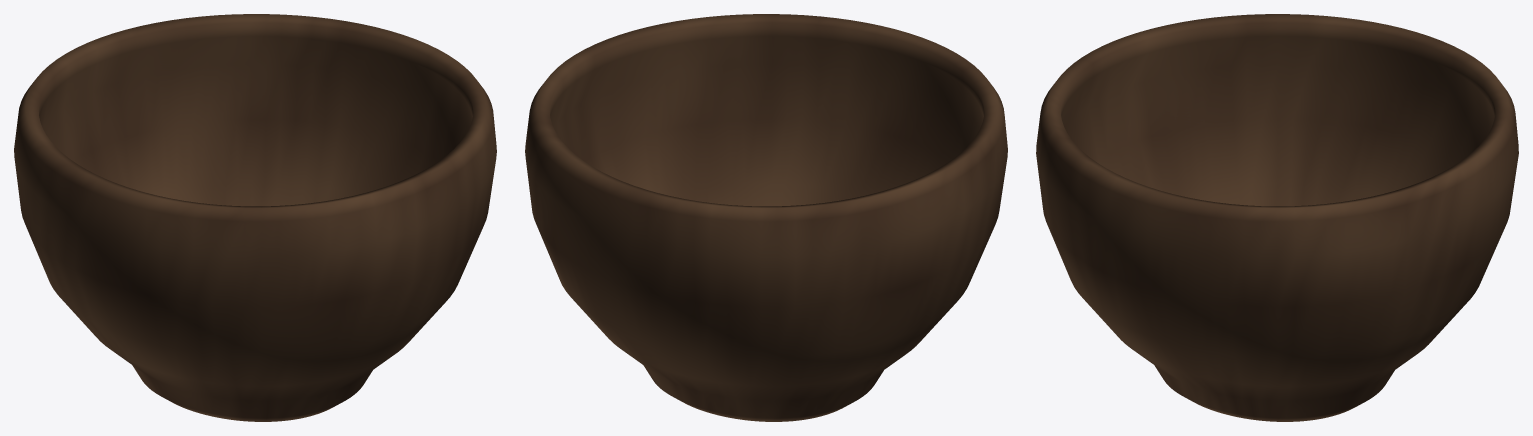
The model's file is bcm-1099-exhibit.glb.
3 renders of one model, left to right at view 1: azimuth 30°, elevation 25°; view 2: azimuth 150°, elevation 25°; view 3: azimuth 270°, elevation 25°, orthographic.
Visible parts, largest first — view 1: Onggi rice bowl | hollow with a short foot; view 2: Onggi rice bowl | hollow with a short foot; view 3: Onggi rice bowl | hollow with a short foot.
Boxes of the visible parts, x1,y1,x2,y2 form: Onggi rice bowl | hollow with a short foot: (14,14,496,421); Onggi rice bowl | hollow with a short foot: (525,14,1007,421); Onggi rice bowl | hollow with a short foot: (1036,14,1518,421).
Size of the model in its own units: 0.13 by 0.08 by 0.13.
